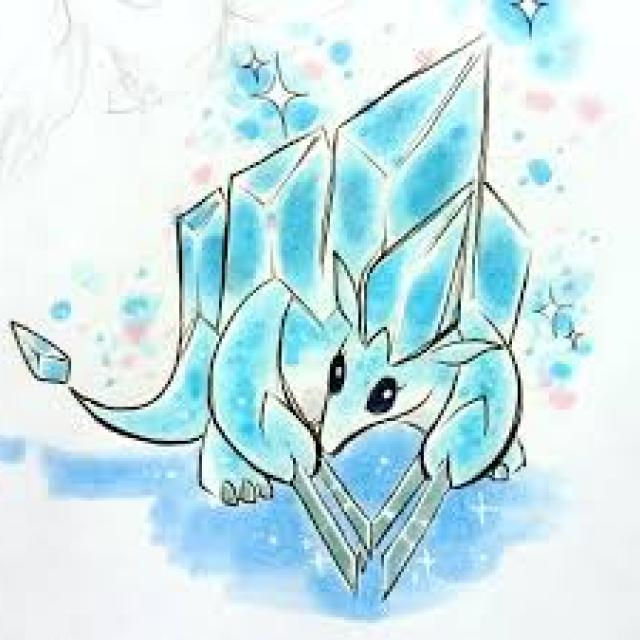Alolan: (141, 43, 529, 518)
